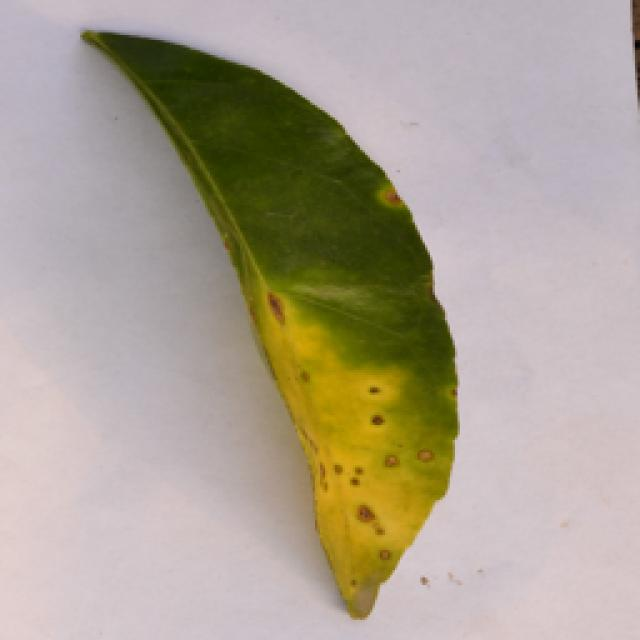canker: (170, 141, 474, 616)
